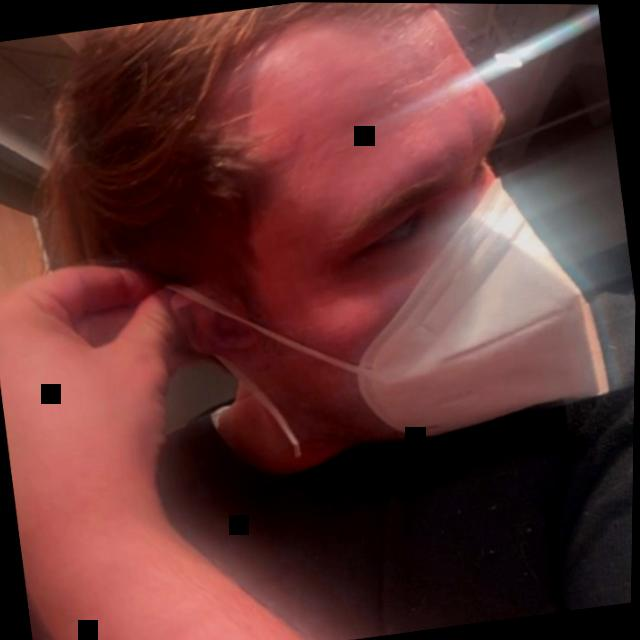Mask: (43, 0, 640, 513)
